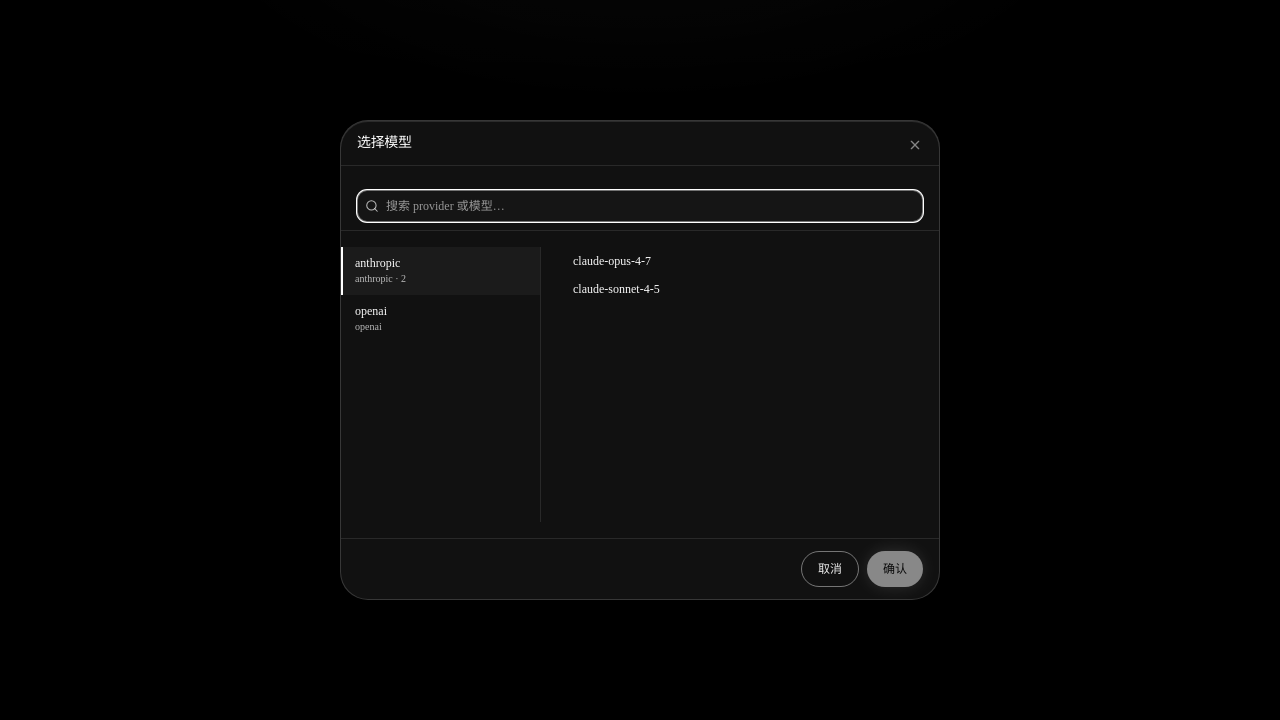
Test: <ModelPickerDialog> › switches model list when a different provider is clicked
Expected: the button with test id "model-picker-model-claude-opus-4-7" is shown, [541,247,939,275]
Click the button with test id "model-picker-provider-openai" at (440, 319), box [341,295,540,343]
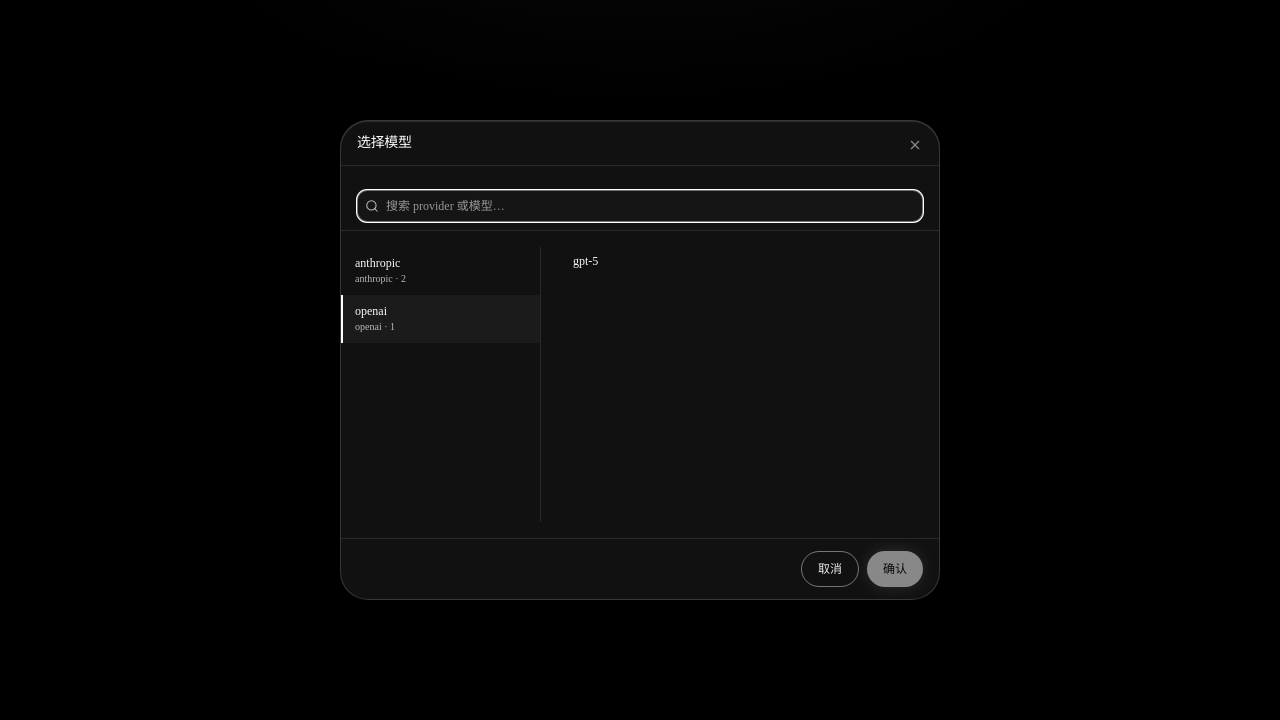
Now the button with test id "model-picker-model-gpt-5" is shown, box [541,247,939,275]
